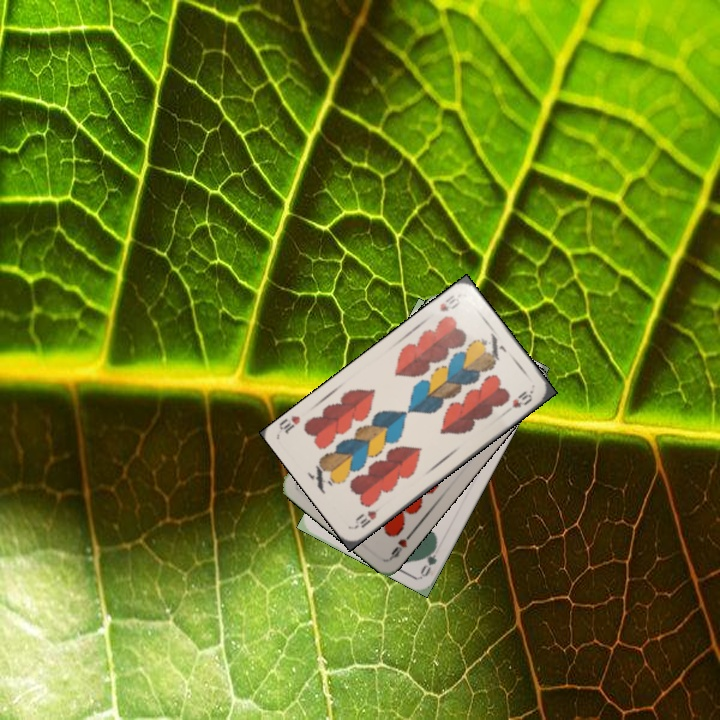GO: (416, 538, 440, 578)
H10: (351, 502, 385, 531), (435, 291, 463, 314)
H9: (386, 527, 417, 562)
